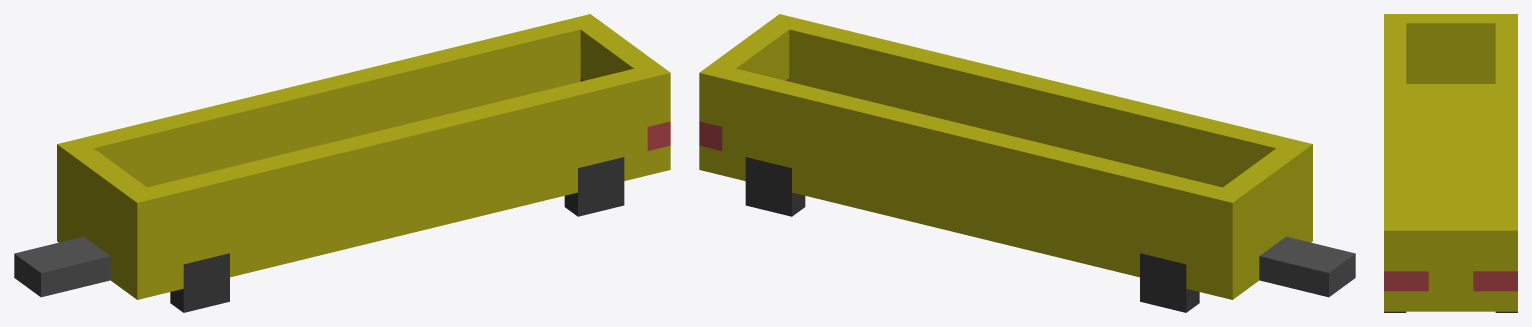
File: truck-trailer-v3-yellow.gltf
3 renders of one model, left to right at view 1: azimuth 30°, elevation 25°; view 2: azimuth 150°, elevation 25°; view 3: azimuth 270°, elevation 25°, orthographic. The views are drawn at different scales.
Visible parts, largest first — view 1: model, wheels; view 2: model, wheels; view 3: model.
Boxes of the visible parts, left/top/right/bottom form: model: left=14, top=14, right=670, bottom=299; wheels: left=170, top=157, right=624, bottom=312; model: left=699, top=14, right=1355, bottom=299; wheels: left=745, top=157, right=1199, bottom=312; model: left=1384, top=14, right=1517, bottom=311.
Size of the model in its own units: 2.6 by 0.5 by 0.6.
2 materials, 2 textured.
